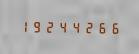four: (69, 19, 81, 34), (56, 19, 68, 33)
nine: (30, 19, 42, 33)
one: (17, 19, 29, 33)
six: (95, 20, 107, 34), (108, 20, 120, 34)
two: (43, 19, 55, 33), (82, 20, 94, 34)
